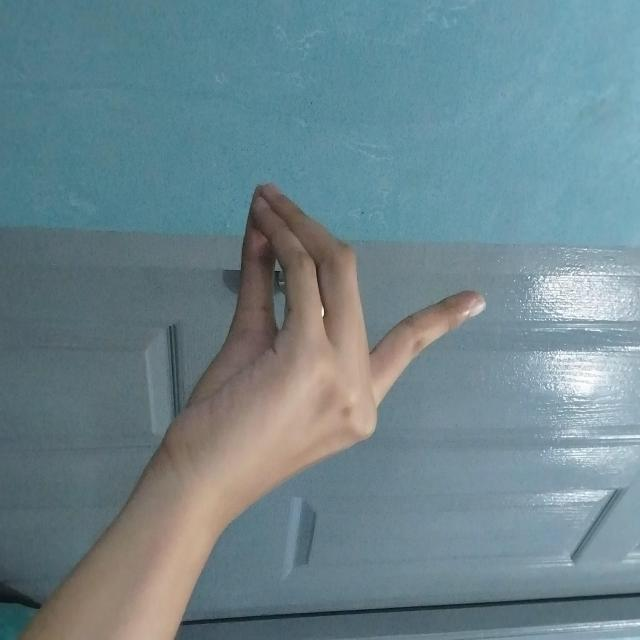D: (190, 152, 468, 458)
